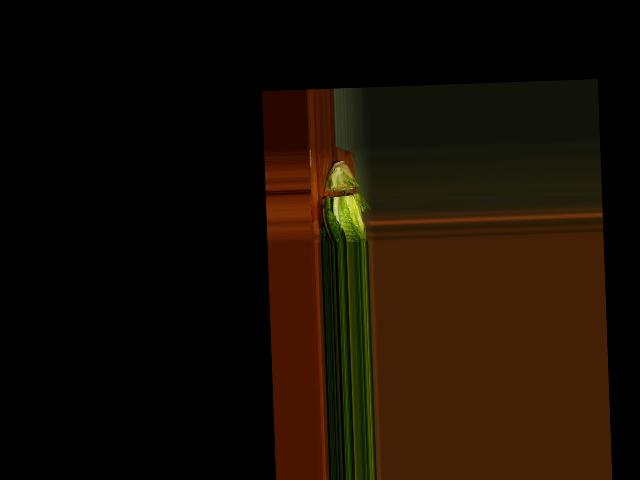lettuce: (315, 161, 369, 242)
